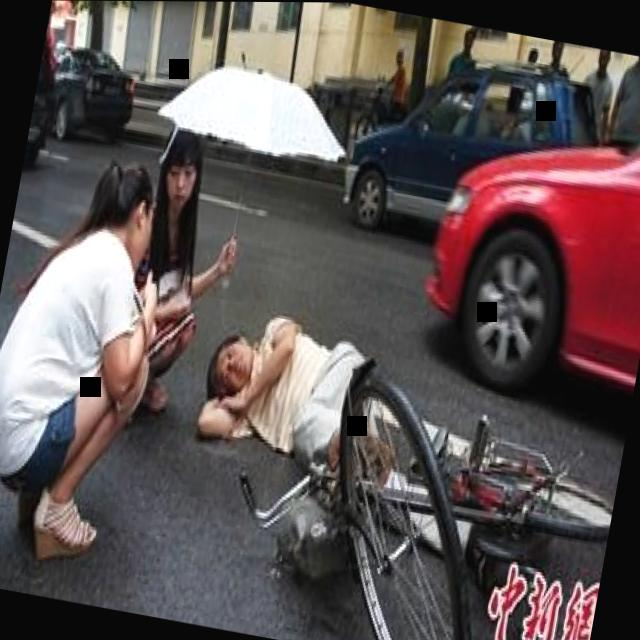Fall-Detected: (182, 282, 444, 495)
